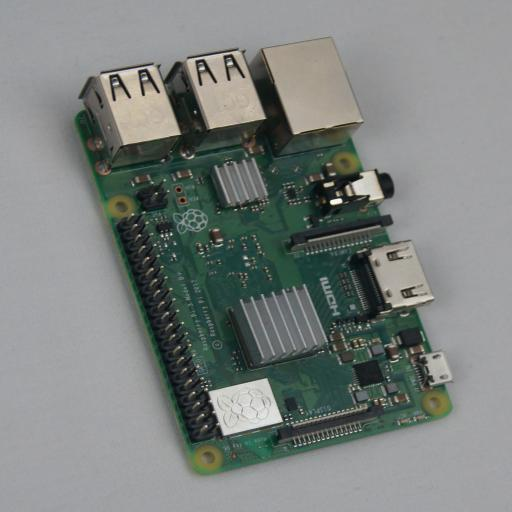Raspberry Pi 3 B-: (69, 39, 452, 475)
